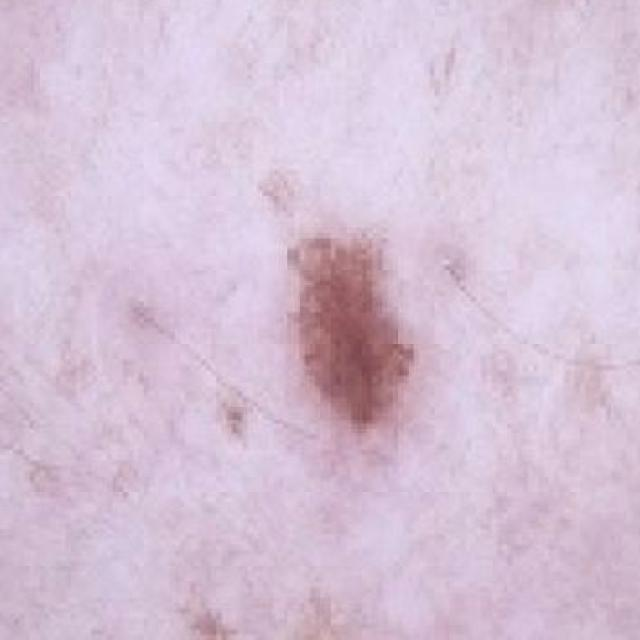MEL: (247, 157, 409, 450)
